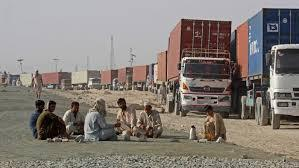Person: (82, 99, 117, 142), (35, 100, 68, 141), (115, 98, 137, 138), (138, 104, 163, 139), (203, 105, 226, 143), (63, 101, 85, 138), (29, 100, 46, 140)
Truck: (232, 7, 299, 129), (168, 20, 232, 118)
